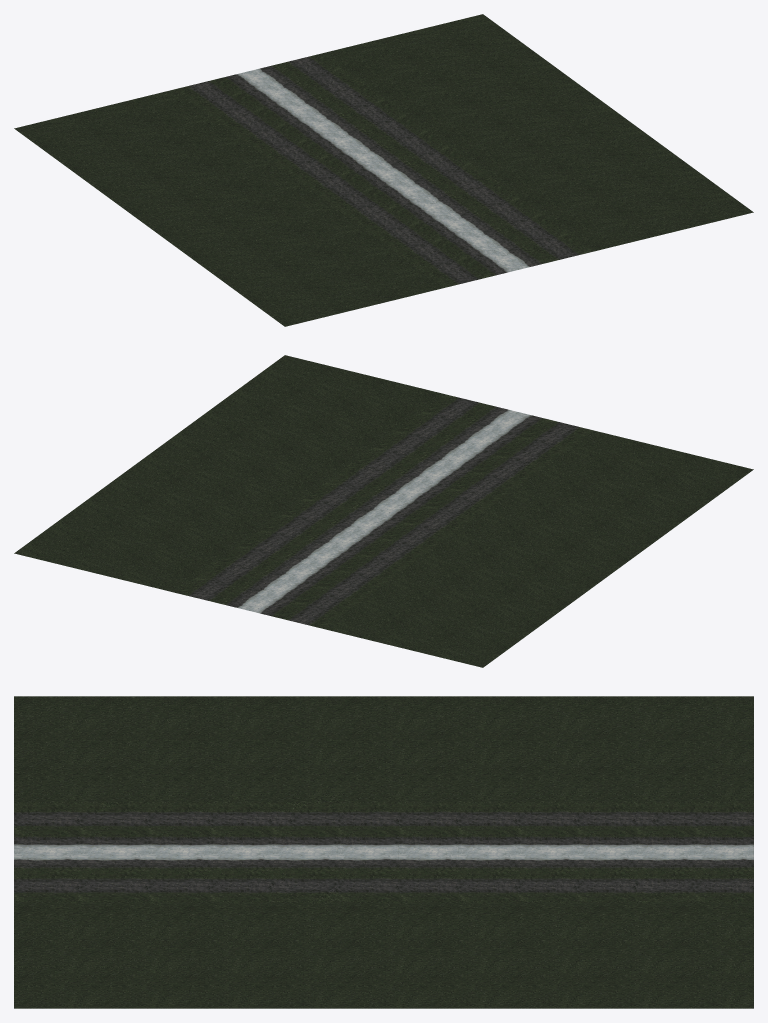
The model's file is SM_EC_Ground_Tile_02.fbx.
3 renders of one model, top to bottom at view 1: azimuth 30°, elevation 25°; view 2: azimuth 150°, elevation 25°; view 3: azimuth 270°, elevation 25°, orthographic. The views are drawn at different scales.
Visible parts, largest first — view 1: SM_EC_Ground_Tile_02; view 2: SM_EC_Ground_Tile_02; view 3: SM_EC_Ground_Tile_02.
Boxes of the visible parts, left/top/right/bottom form: SM_EC_Ground_Tile_02: left=14, top=14, right=753, bottom=326; SM_EC_Ground_Tile_02: left=14, top=355, right=753, bottom=667; SM_EC_Ground_Tile_02: left=14, top=696, right=753, bottom=1008.
Bounding box in the file's own units: 37.47 × 37.5 × 0.00692.
